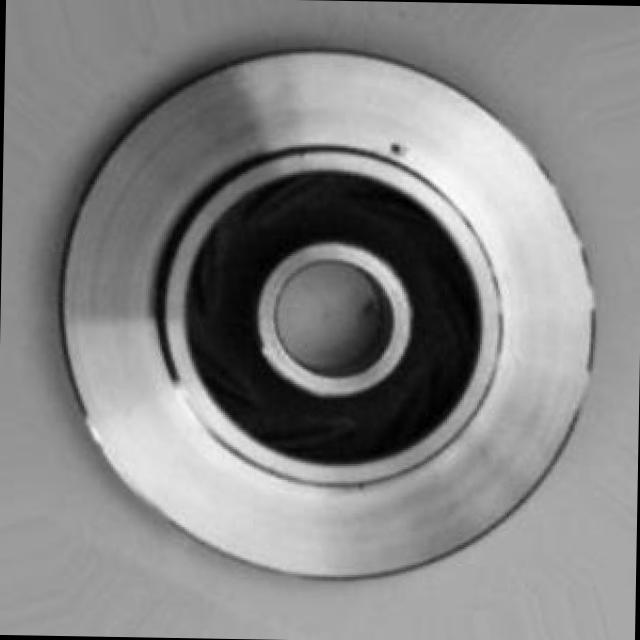Defect: (386, 139, 419, 169)
